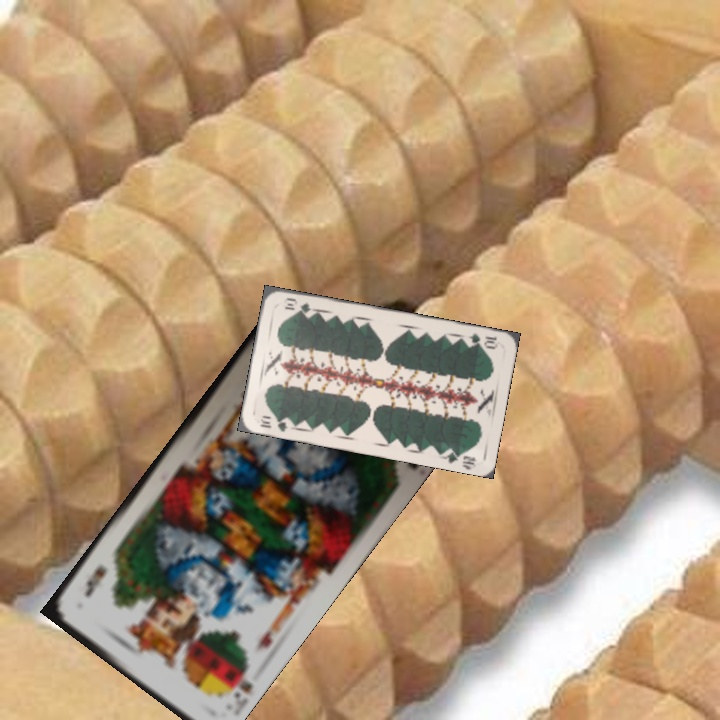G10: (255, 411, 295, 434), (464, 329, 502, 351)
SK: (217, 661, 256, 703)
